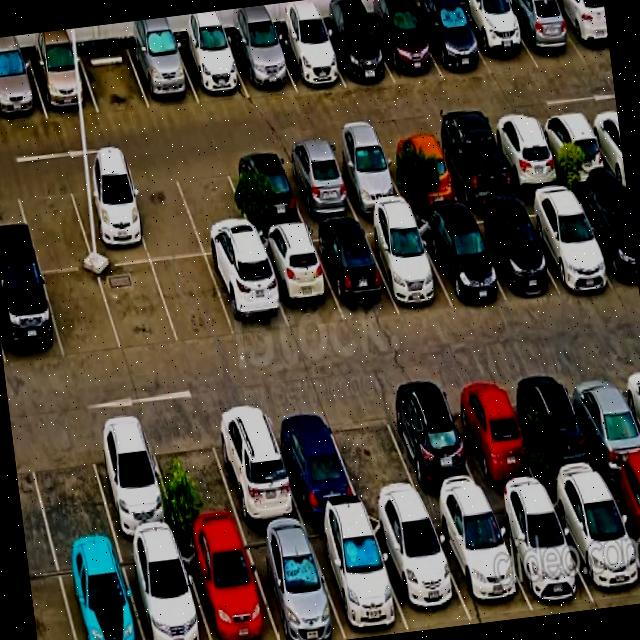empty: (145, 416, 242, 537), (323, 394, 424, 510), (24, 426, 115, 552), (172, 159, 256, 255), (123, 167, 203, 261), (14, 178, 93, 272), (97, 262, 178, 352), (152, 256, 234, 344), (42, 269, 121, 359), (78, 45, 149, 113)
occupied: (379, 384, 486, 507), (305, 515, 408, 639), (487, 493, 594, 611), (428, 500, 532, 620), (367, 510, 471, 629), (442, 376, 542, 498), (206, 403, 303, 528), (241, 525, 345, 640), (547, 482, 640, 608), (264, 401, 361, 520), (84, 420, 178, 542), (511, 368, 605, 489), (178, 531, 278, 640), (519, 192, 614, 292), (118, 538, 210, 640), (561, 363, 640, 481), (413, 211, 506, 308), (464, 204, 557, 300), (256, 229, 343, 331), (309, 222, 398, 320), (361, 217, 453, 311), (55, 545, 143, 640), (67, 173, 150, 267), (206, 251, 289, 336), (571, 186, 639, 289), (431, 125, 515, 204), (224, 152, 305, 232), (0, 270, 63, 367), (278, 146, 357, 223), (326, 140, 406, 215), (379, 133, 461, 206), (458, 2, 538, 76), (487, 117, 565, 192), (501, 0, 585, 68), (535, 111, 612, 184), (368, 10, 442, 84), (414, 7, 491, 78), (319, 19, 394, 87), (174, 38, 248, 103), (28, 51, 98, 119), (127, 41, 198, 108), (272, 28, 345, 91), (227, 33, 295, 97), (551, 0, 610, 61), (0, 57, 47, 124), (605, 475, 640, 563)
